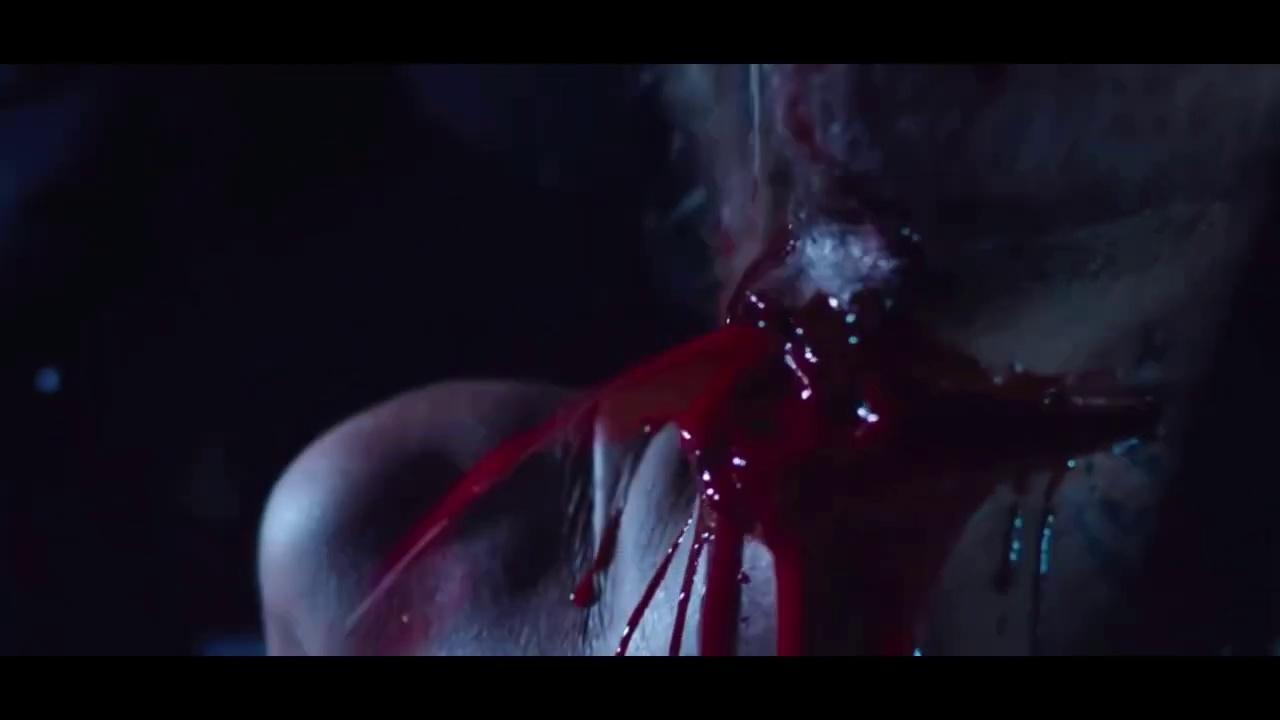Fire: (371, 249, 1069, 657), (615, 520, 692, 656), (669, 509, 708, 656), (569, 508, 622, 612), (1030, 483, 1052, 653)
